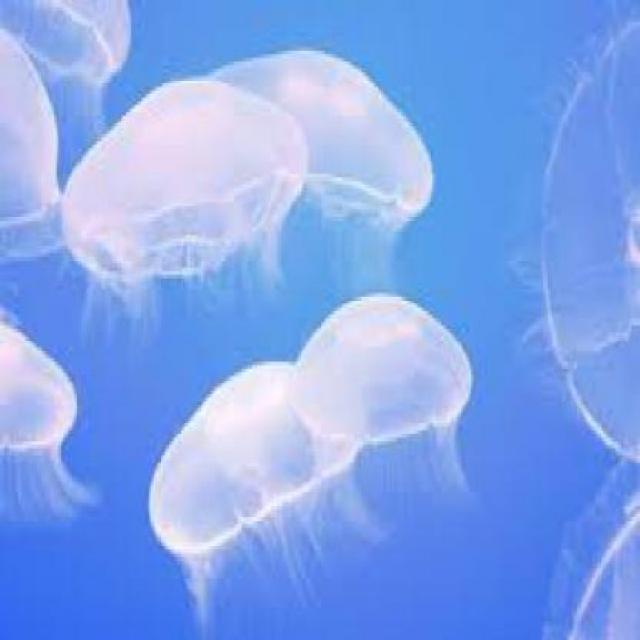Jellyfish: (141, 351, 397, 611), (56, 69, 299, 322), (212, 43, 438, 271), (290, 286, 478, 499)
